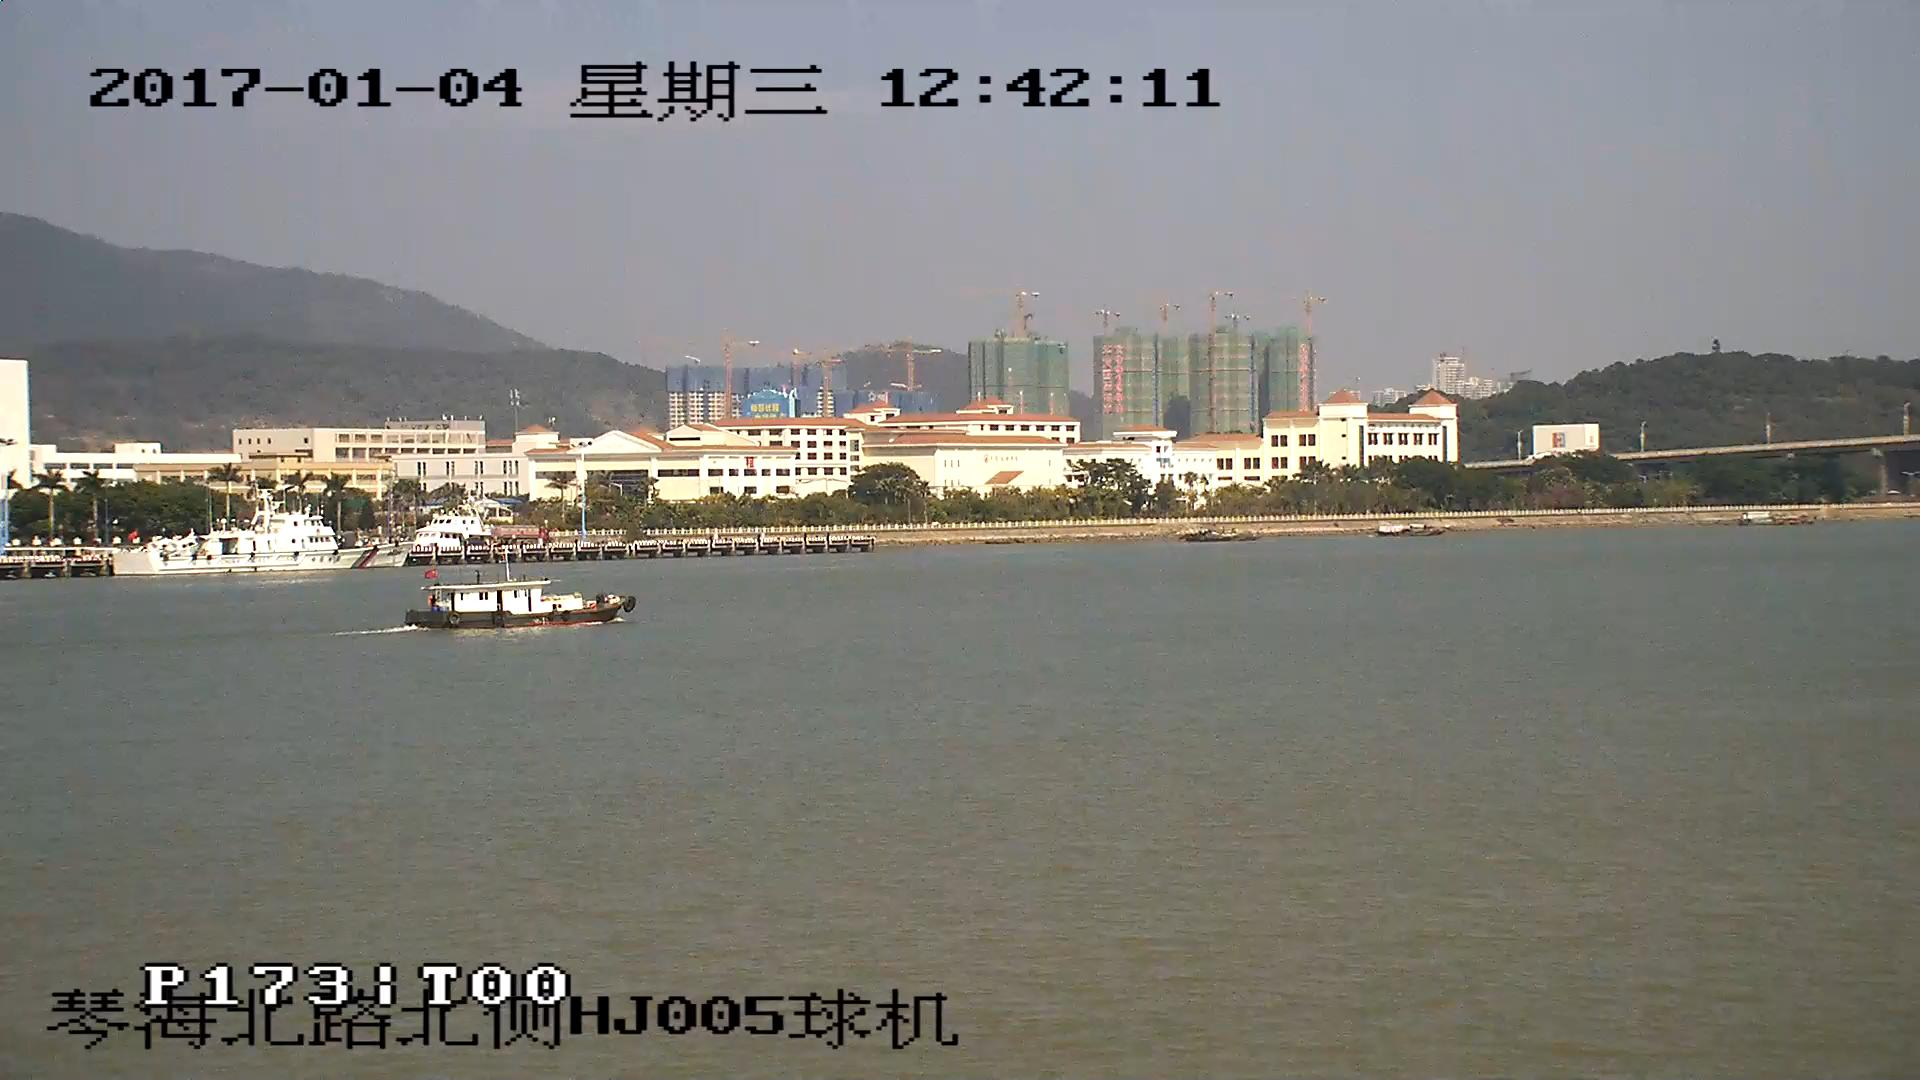fishing boat: (407, 569, 638, 632)
